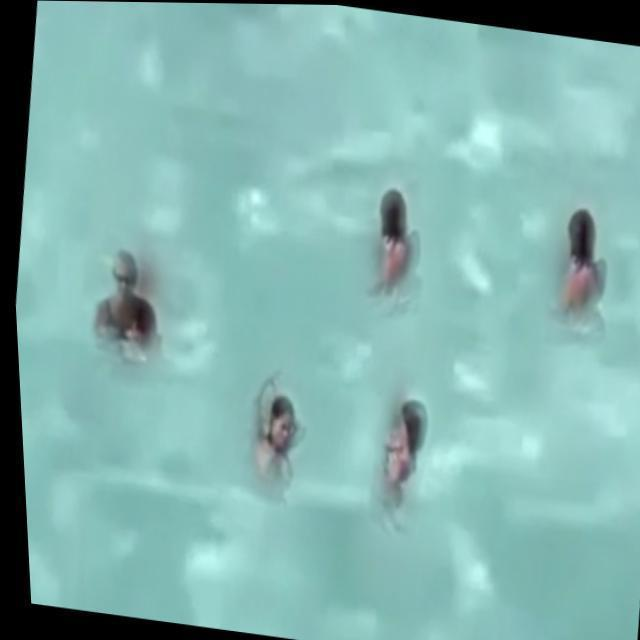swimming: (519, 183, 635, 351), (333, 166, 440, 321), (359, 365, 446, 545), (223, 352, 308, 509), (93, 239, 179, 372)
